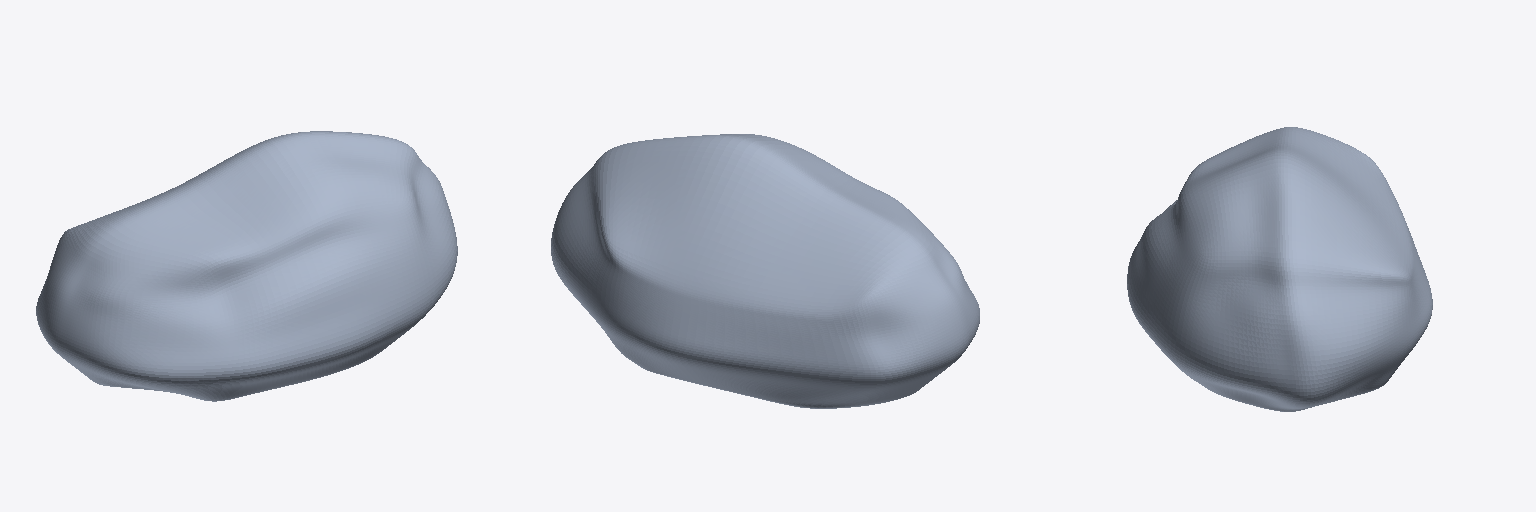
File: pebbles_1.obj
3 views of the same model, side by side, from view 1: azimuth 30°, elevation 25°; view 2: azimuth 150°, elevation 25°; view 3: azimuth 270°, elevation 25° (orthographic).
Parts seen in each view (by area): view 1: Rock.Landscape.Style_1; view 2: Rock.Landscape.Style_1; view 3: Rock.Landscape.Style_1.
Boxes of the visible parts, box(x1,y1,x2,y2) form: Rock.Landscape.Style_1: box(36, 131, 457, 401); Rock.Landscape.Style_1: box(551, 134, 979, 408); Rock.Landscape.Style_1: box(1127, 127, 1432, 411).
Size of the model in its own units: 4.01 by 2.1 by 2.65.